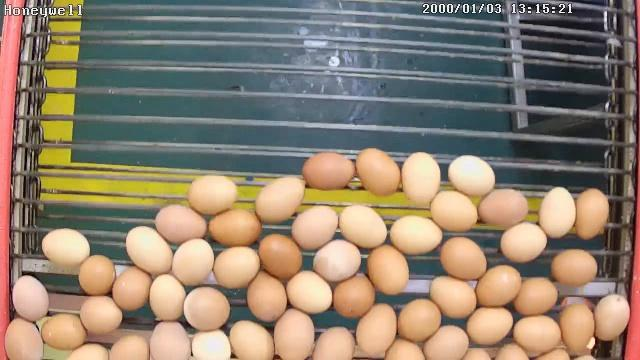egg: (123, 225, 176, 277), (252, 174, 305, 224), (354, 301, 400, 357), (153, 202, 211, 246), (354, 145, 402, 198), (365, 242, 410, 298), (270, 307, 316, 360), (428, 273, 478, 321), (438, 234, 488, 282), (338, 202, 388, 250), (284, 268, 334, 316), (256, 231, 304, 281), (182, 284, 232, 332), (210, 242, 260, 290), (476, 184, 529, 229), (300, 148, 354, 192), (387, 213, 443, 255), (464, 303, 516, 348), (207, 205, 260, 249), (246, 268, 288, 323), (290, 204, 338, 252), (447, 153, 497, 199), (401, 150, 442, 206), (186, 173, 238, 217), (429, 188, 479, 233), (171, 237, 216, 287), (330, 270, 374, 321), (498, 221, 550, 264), (538, 185, 577, 242), (474, 263, 522, 309), (396, 296, 442, 344), (312, 238, 362, 282), (78, 292, 124, 338), (573, 185, 610, 242), (228, 317, 277, 360), (548, 246, 598, 288), (40, 226, 90, 268), (512, 314, 563, 355), (592, 292, 632, 344), (146, 317, 194, 360), (38, 311, 88, 352), (2, 314, 46, 360), (110, 263, 151, 312), (10, 273, 51, 322), (148, 272, 188, 322), (512, 276, 558, 318), (419, 322, 468, 360), (76, 252, 118, 296), (560, 302, 596, 352), (189, 325, 233, 360)
